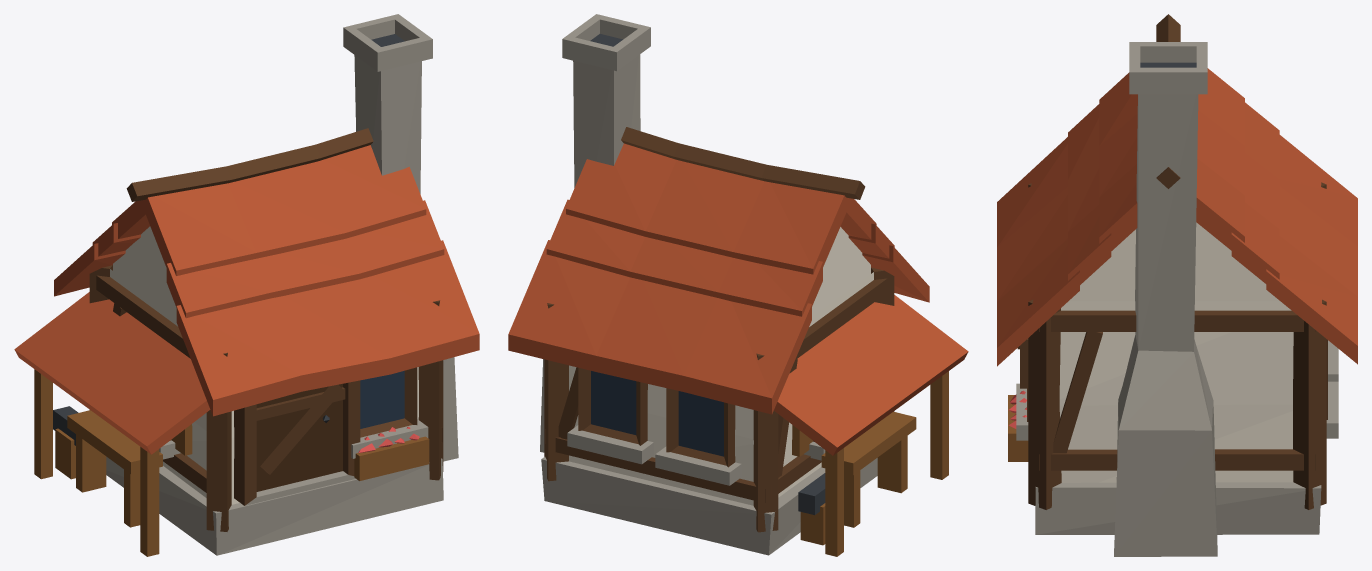
File: workshop_b.glb
The picture shows the model from 3 angles, left to right: view 1: azimuth 30°, elevation 25°; view 2: azimuth 150°, elevation 25°; view 3: azimuth 270°, elevation 25°; orthographic projection. The views are drawn at different scales.
Parts seen in each view (by area): view 1: workshop_b; view 2: workshop_b; view 3: workshop_b.
Boxes of the visible parts, box(x1,y1,x2,y2) form: workshop_b: box(14, 14, 479, 556); workshop_b: box(508, 14, 968, 556); workshop_b: box(997, 14, 1357, 556).
Bounding box in the file's own units: 0.7614 × 0.88 × 0.6.
